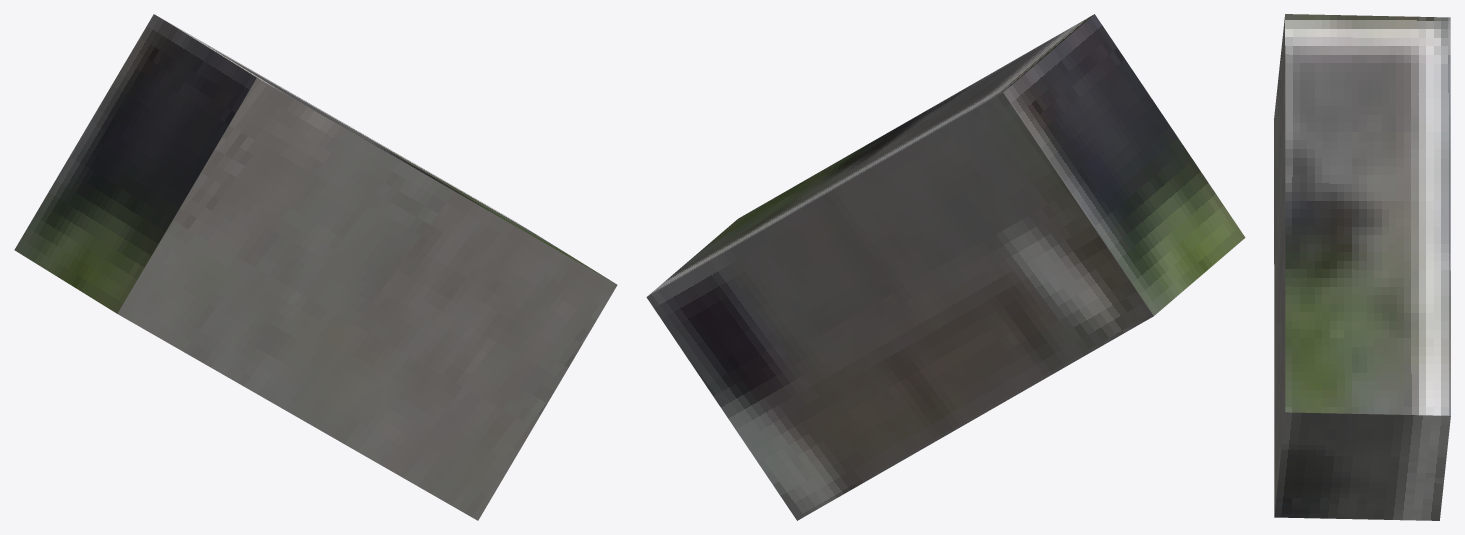
The picture shows the model from 3 angles, left to right: view 1: azimuth 30°, elevation 25°; view 2: azimuth 150°, elevation 25°; view 3: azimuth 270°, elevation 25°; orthographic projection. The views are drawn at different scales.
Parts seen in each view (by area): view 1: BAG_0599100010041938; view 2: BAG_0599100010041938; view 3: BAG_0599100010041938.
Boxes of the visible parts, x1,y1,x2,y2 form: BAG_0599100010041938: (14,14,617,520); BAG_0599100010041938: (646,14,1245,520); BAG_0599100010041938: (1274,14,1450,520).
Size of the model in its own units: 5.49 by 5.1 by 1.94.
2 materials, 1 textured.
